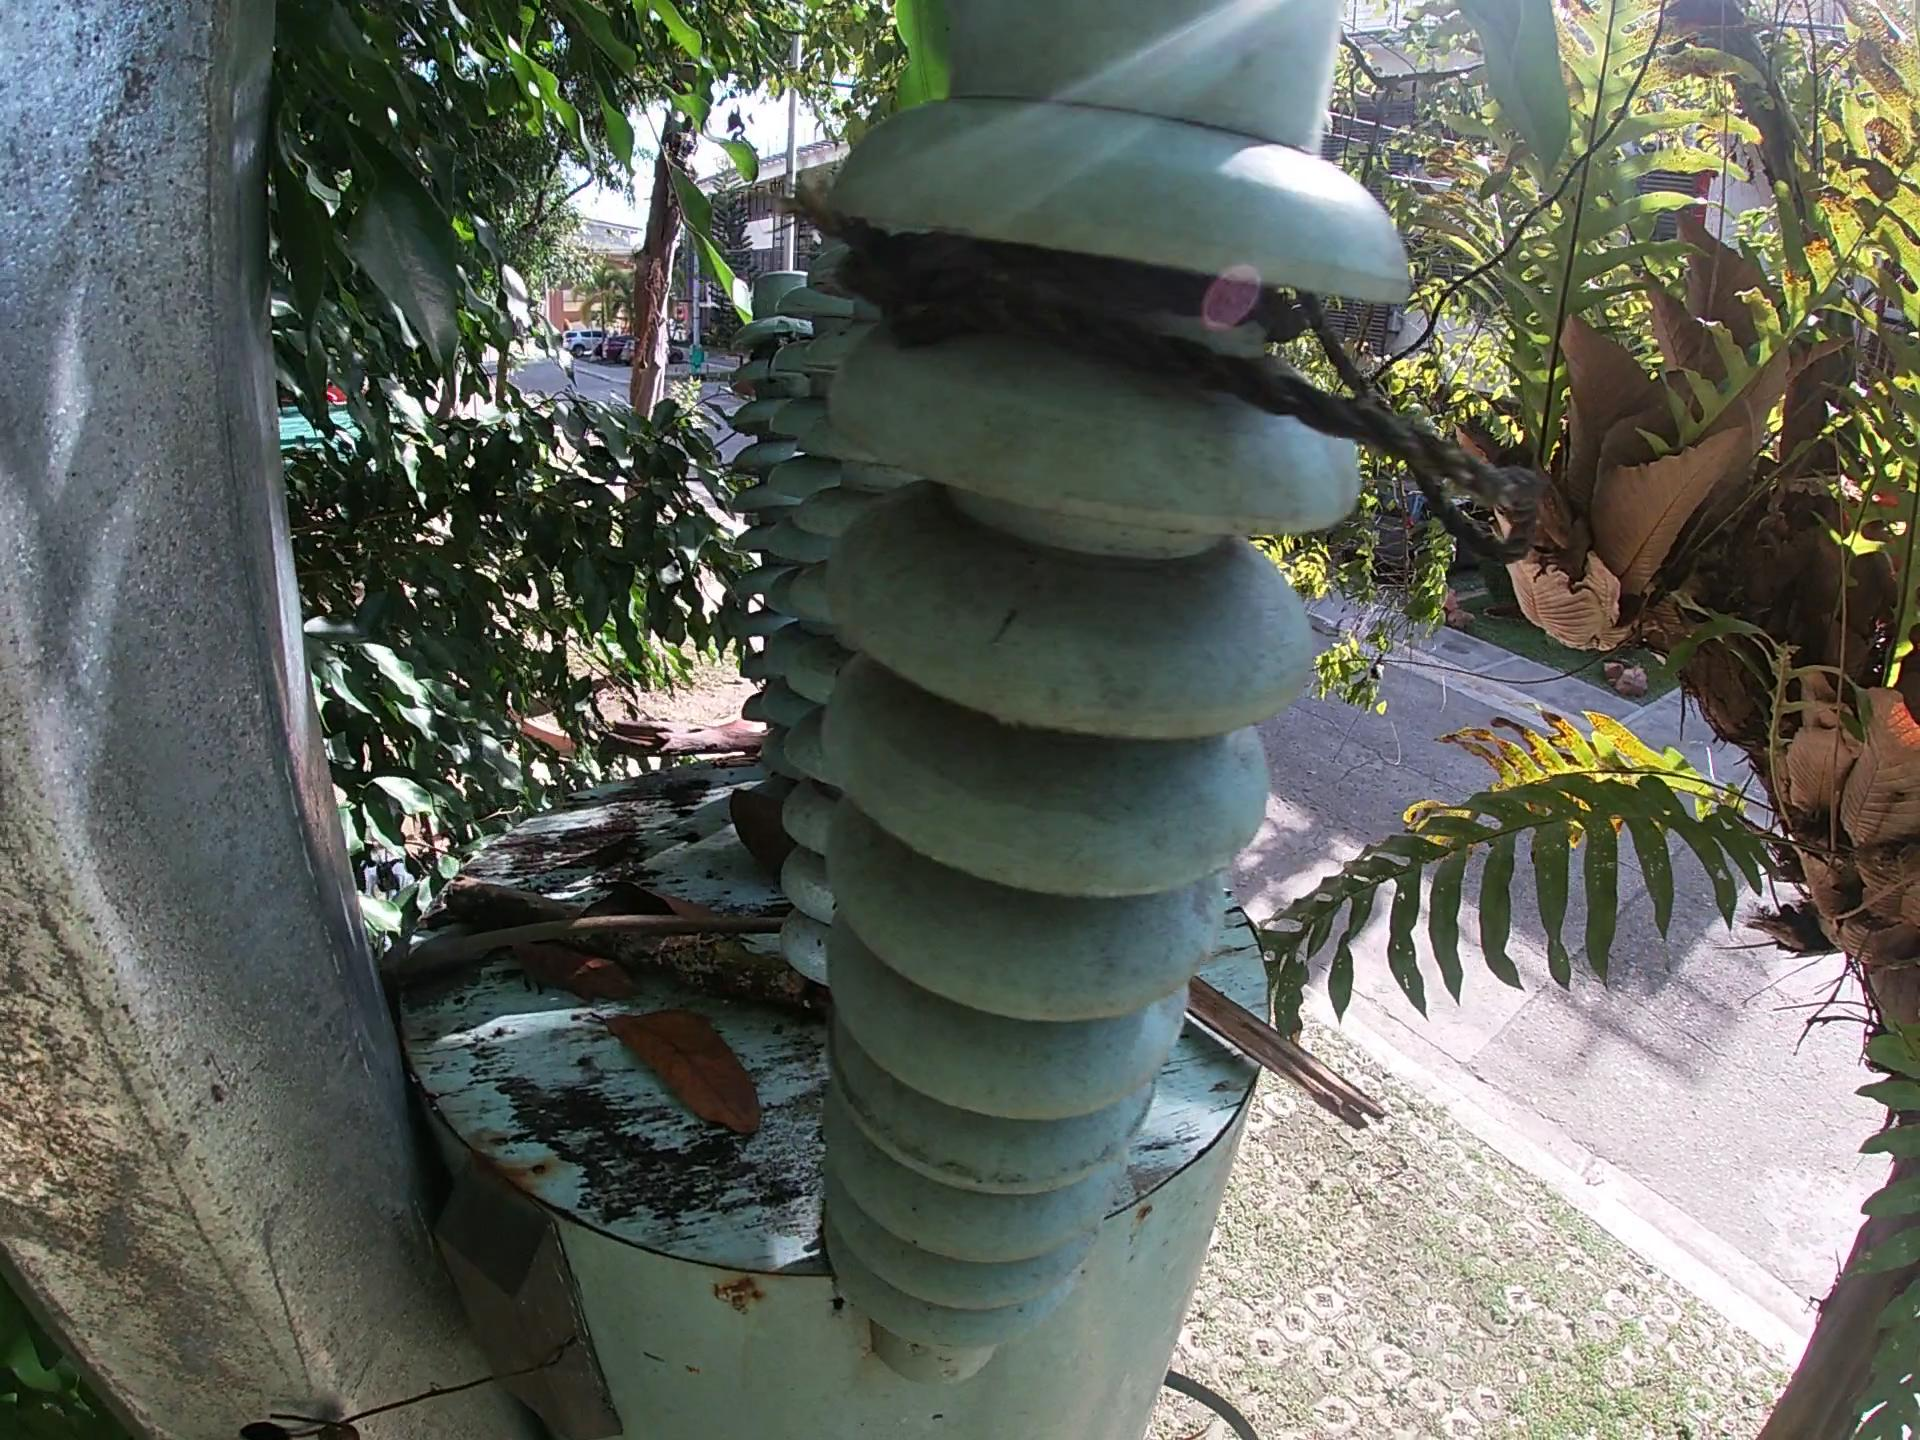leaf: (581, 1000, 776, 1144), (500, 938, 644, 1004), (576, 883, 715, 923)
mahogany fruit: (726, 784, 794, 883)
tree branch: (441, 873, 836, 1015), (386, 912, 794, 1001), (1182, 973, 1391, 1141), (599, 714, 771, 767)
